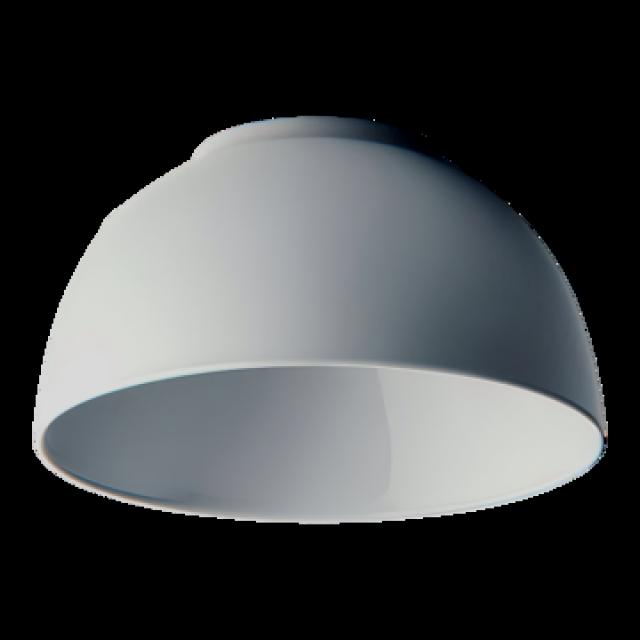Mangkok: (34, 103, 616, 550)
